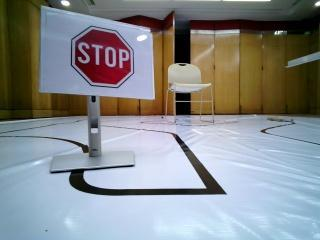stop: (40, 12, 147, 96)
